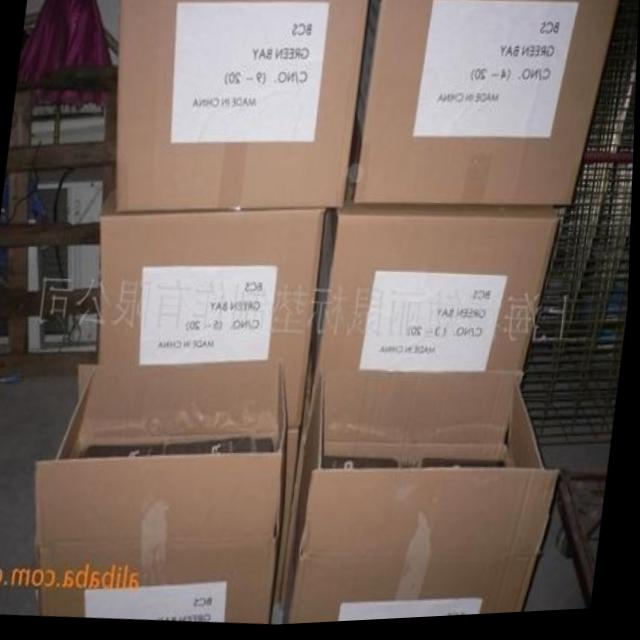box: (284, 369, 565, 626), (39, 362, 286, 625), (309, 188, 561, 429), (99, 178, 328, 434), (347, 0, 620, 208), (118, 0, 367, 213), (278, 429, 304, 605), (31, 102, 103, 145), (30, 246, 101, 289), (29, 181, 103, 222), (29, 314, 100, 351), (2, 174, 17, 223), (0, 245, 10, 290), (0, 320, 11, 353)
